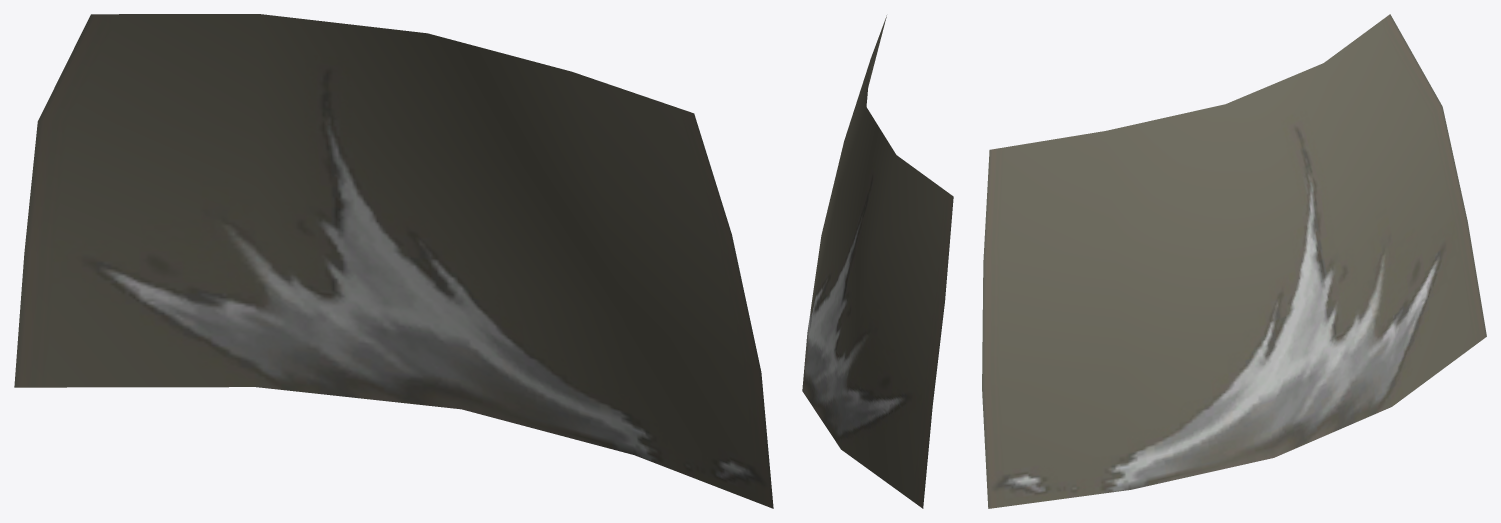
The model's file is yanchen001.FBX.
3 views of the same model, side by side, from view 1: azimuth 30°, elevation 25°; view 2: azimuth 150°, elevation 25°; view 3: azimuth 270°, elevation 25° (orthographic). The views are drawn at different scales.
Parts seen in each view (by area): view 1: yanchen001; view 2: yanchen001; view 3: yanchen001.
Boxes of the visible parts, box(x1,y1,x2,y2) form: yanchen001: box(14, 14, 773, 508); yanchen001: box(802, 15, 953, 508); yanchen001: box(982, 14, 1486, 508).
Bounding box in the file's own units: 133 × 117 × 163.
